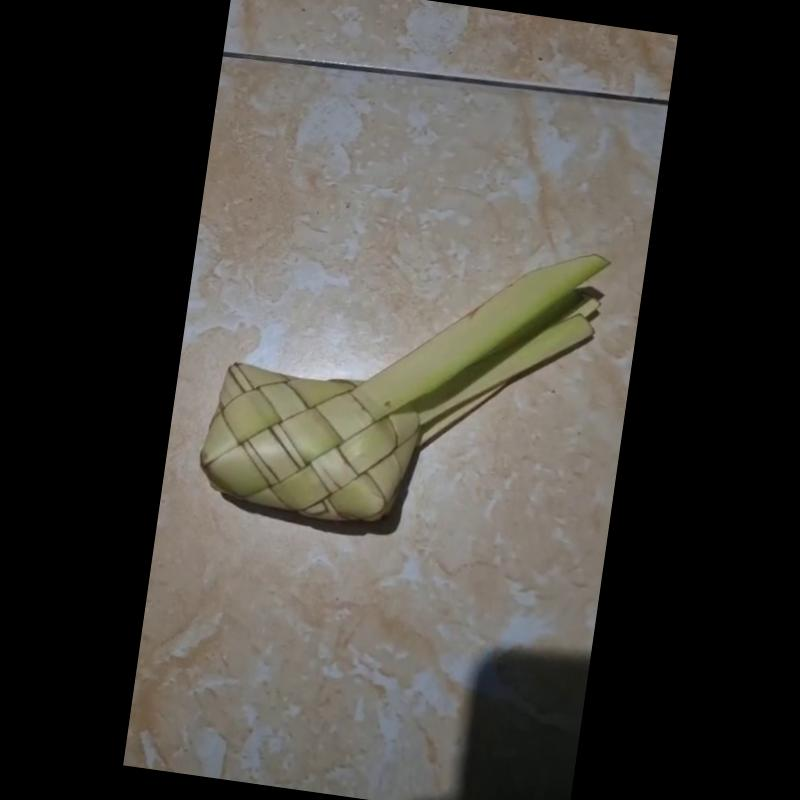Tipat Bantal: (189, 249, 601, 535)
